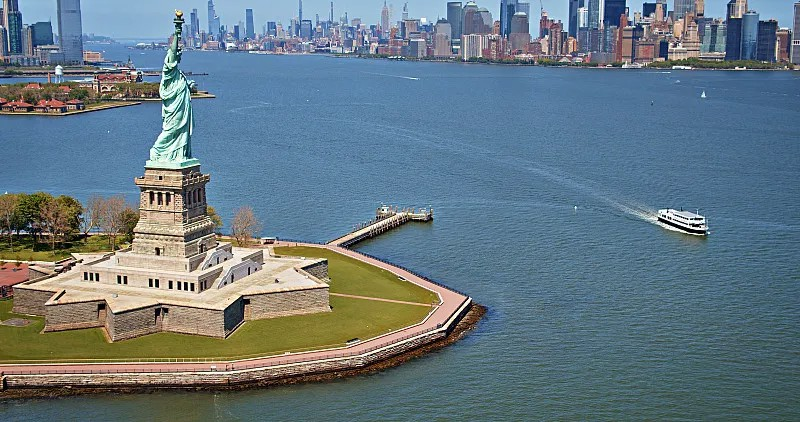SL: (131, 9, 218, 259)
